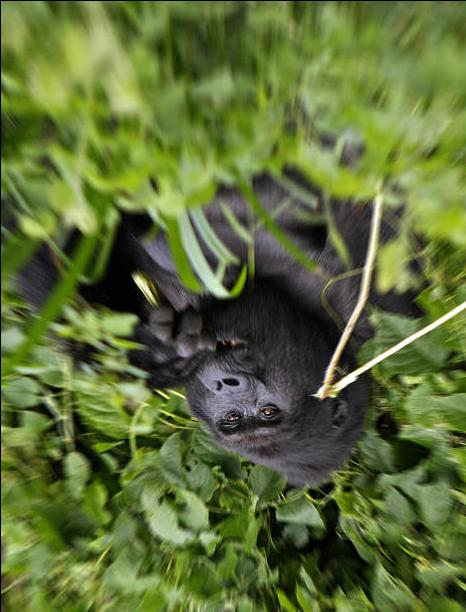goriile_montagne: (80, 190, 370, 494)
